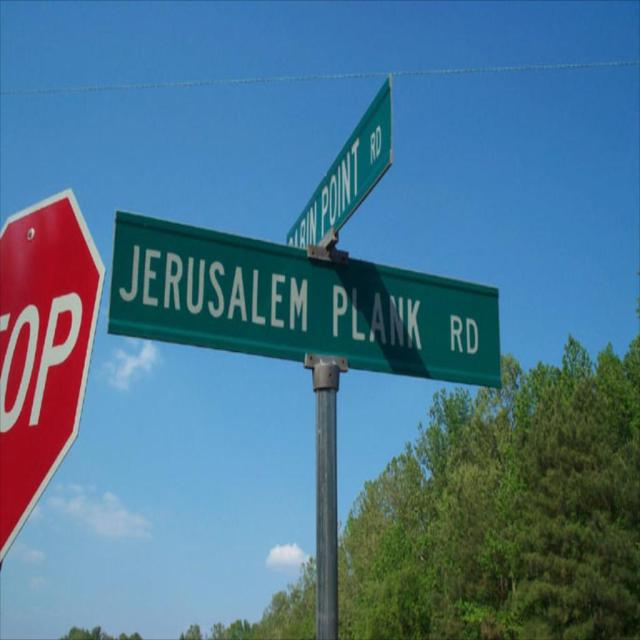Stop-sign: (0, 187, 107, 564)
